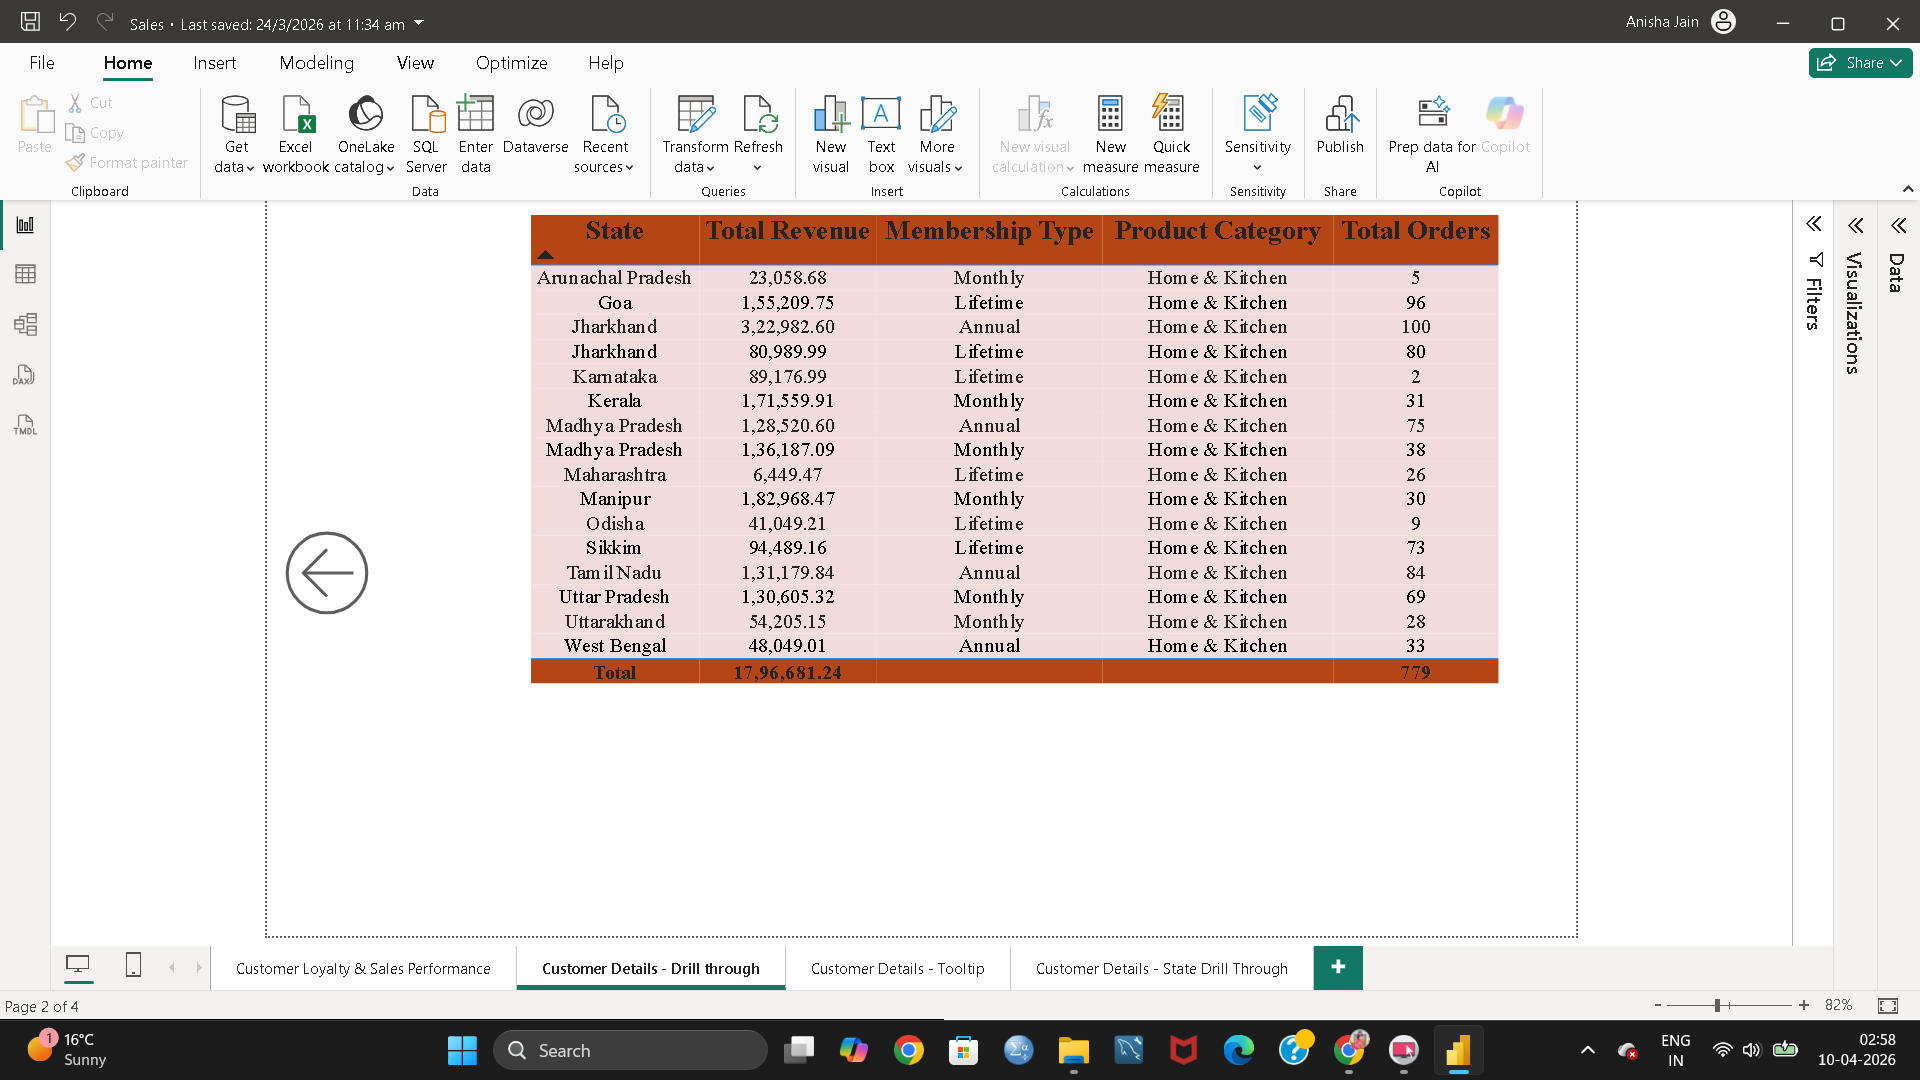

Layout of this report page (visuals, bound fields, positions):
{"tool":"powerbi","page":{"name":"Customer Details - Drill through","canvas":[1280,720],"ordinal":1},"visuals":[{"type":"actionButton","box":[8.6,294.7,100.3,140.6],"z":0},{"type":"tableEx","fields":{"Values":["jbjj.State","DAX.Total Revenue","jbjj.Membership Type","jbjj.Product Category","DAX.Total Orders"]},"box":[251.9,9.8,970.9,539.3],"z":1000}]}

Visuals, with their boxes on the page's 1280x720 design canvas (x1, y1, x2, y2). These are canvas units, not pixel positions in the 1920x1080 screenshot, which may show the page scaled, cropped or inside an application window:
actionButton: [9,295,109,435]
tableEx - jbjj.State x DAX.Total Revenue: [252,10,1223,549]
